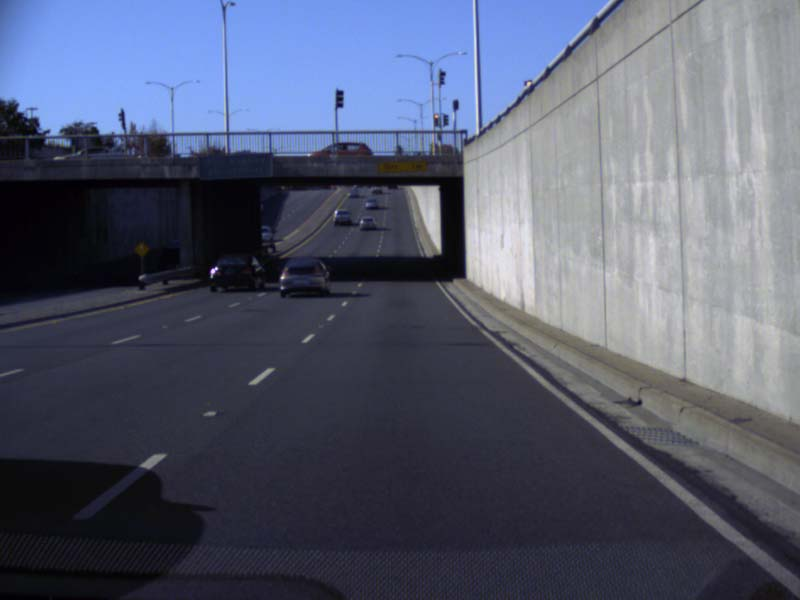Red: (432, 112, 439, 126)
